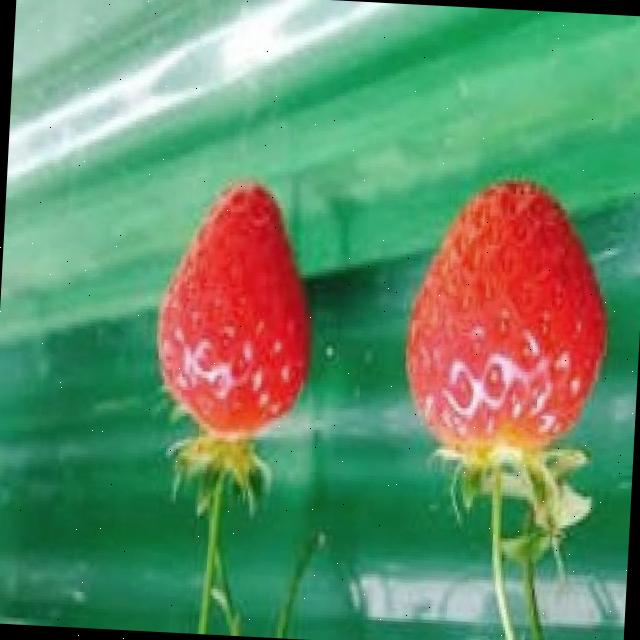strawberry: (403, 172, 615, 454), (152, 178, 319, 442)
